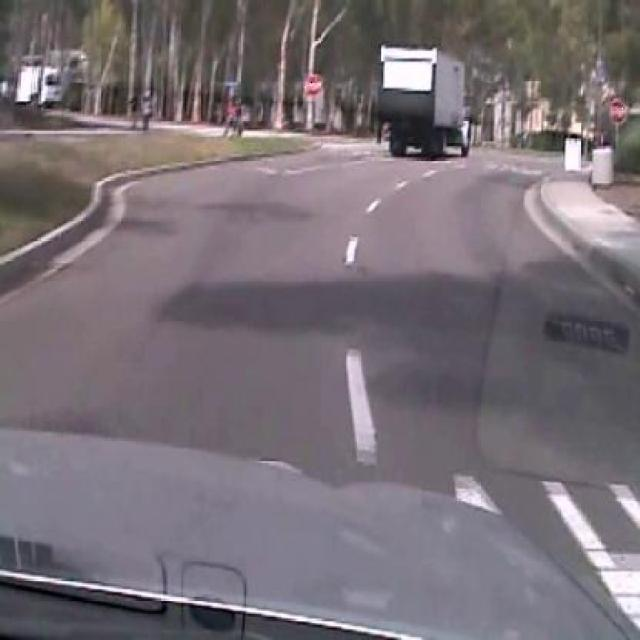stop: (609, 97, 628, 124), (303, 74, 320, 96)
